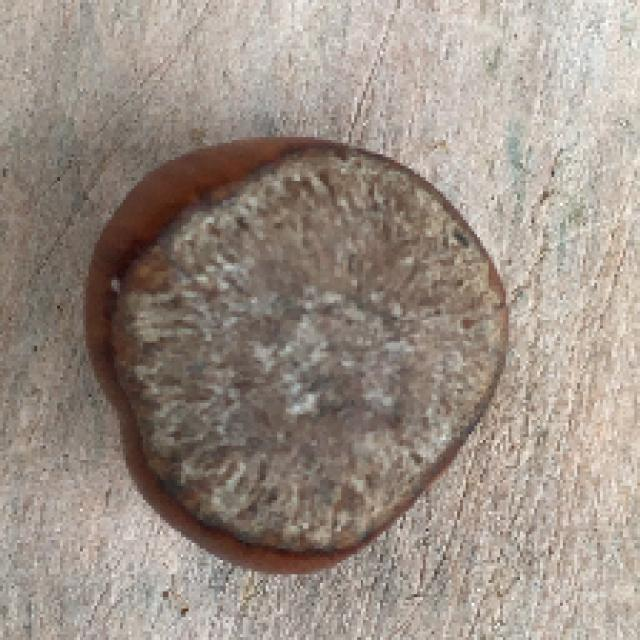QualityHazelnut: (88, 136, 516, 576)
